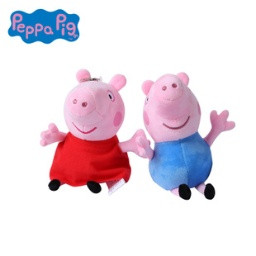Peppa: (38, 67, 140, 194)
